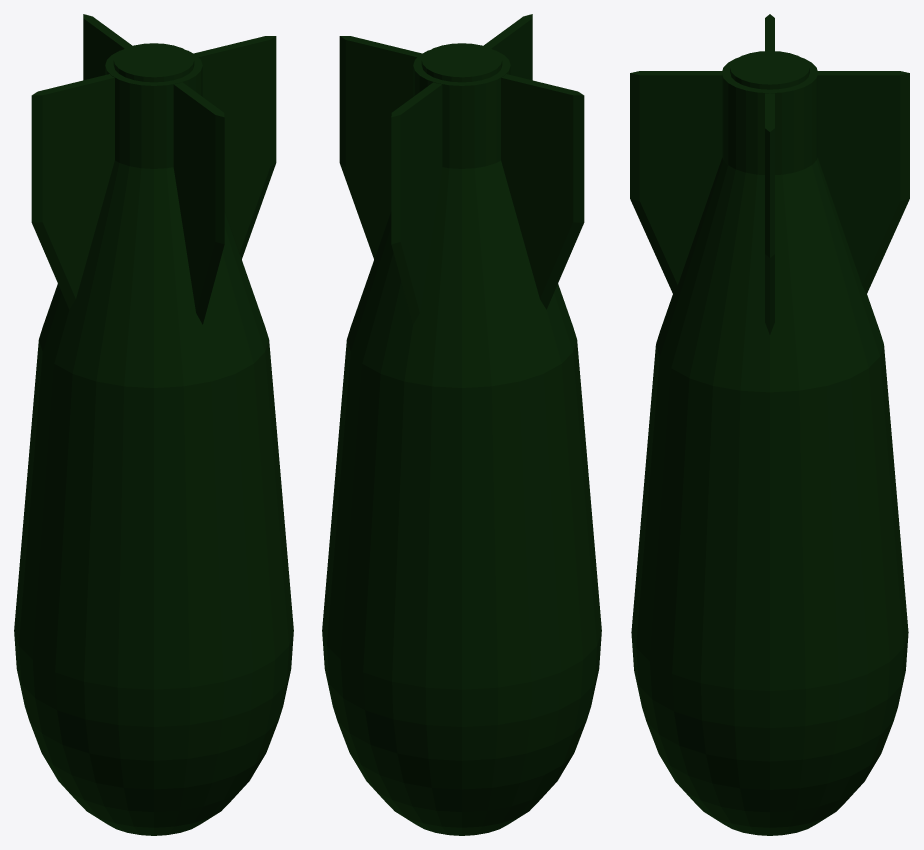
File: unexploded_ordnance.obj
The picture shows the model from 3 angles, left to right: view 1: azimuth 30°, elevation 25°; view 2: azimuth 150°, elevation 25°; view 3: azimuth 270°, elevation 25°; orthographic projection.
Parts seen in each view (by area): view 1: Cube.017_Cube.019; view 2: Cube.017_Cube.019; view 3: Cube.017_Cube.019.
Part boxes in pixels (x1,y1,x2,y2): Cube.017_Cube.019: (14,14,293,835); Cube.017_Cube.019: (322,14,601,835); Cube.017_Cube.019: (630,14,909,835).
Bounding box in the file's own units: 1 × 3 × 1.
